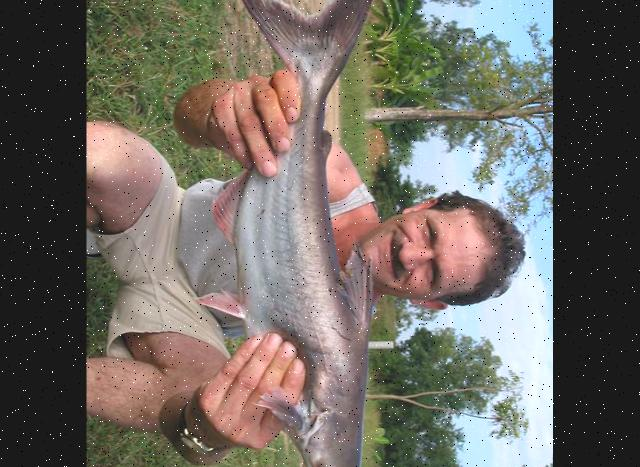Sirip Anal: (196, 158, 261, 245)
Sirip Dada: (246, 391, 312, 438)
Sirip Ekor: (232, 0, 394, 86)
Sirip Perut: (195, 284, 252, 335)
Sirip Punggung: (332, 237, 378, 338)
